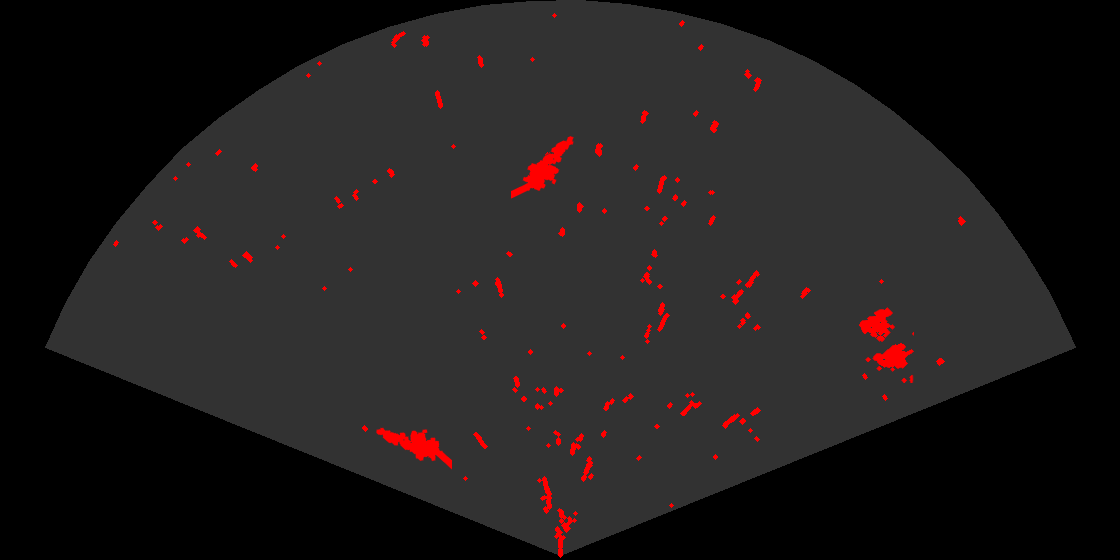cage: (857, 306, 914, 383)
frogman: (511, 135, 575, 200), (375, 426, 452, 471)
